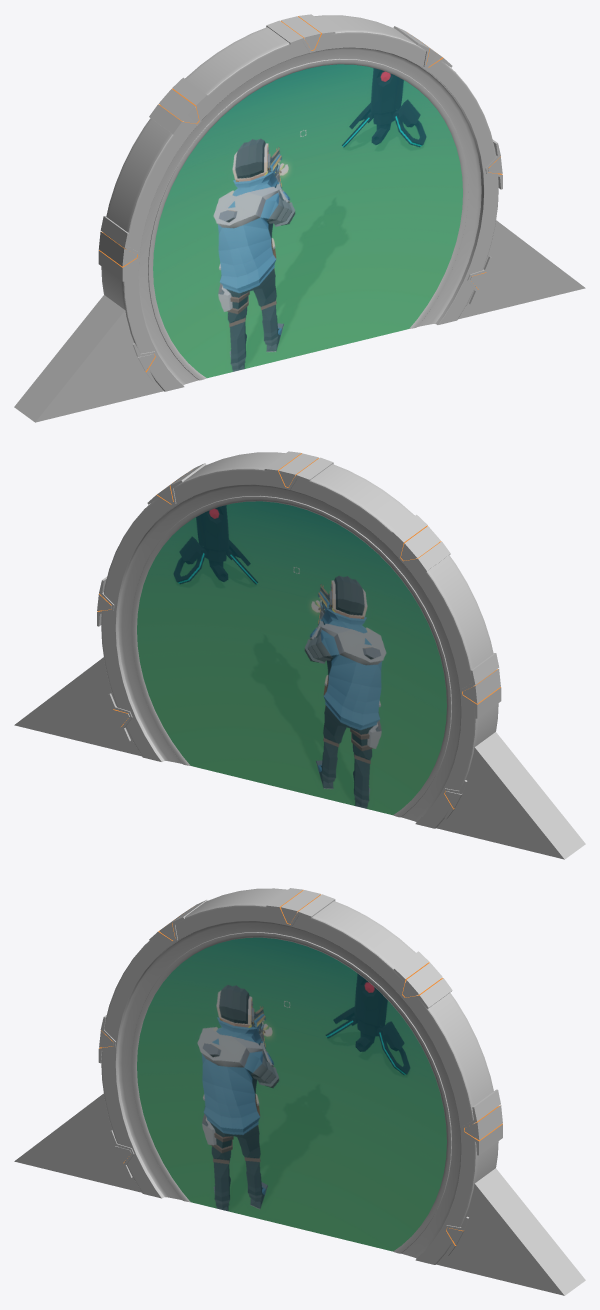
File: portal-new.gltf
3 views of the same model, one above another, from view 1: azimuth 30°, elevation 25°; view 2: azimuth 150°, elevation 25°; view 3: azimuth 330°, elevation 25° (orthographic).
Visible parts, largest first — view 1: Cube.002; view 2: Cube.002; view 3: Cube.002.
Boxes of the visible parts, x1,y1,x2,y2 form: Cube.002: (14, 14, 585, 422); Cube.002: (14, 451, 585, 859); Cube.002: (14, 888, 585, 1295).
Size of the model in its own units: 4.55 by 2.53 by 0.3426.
